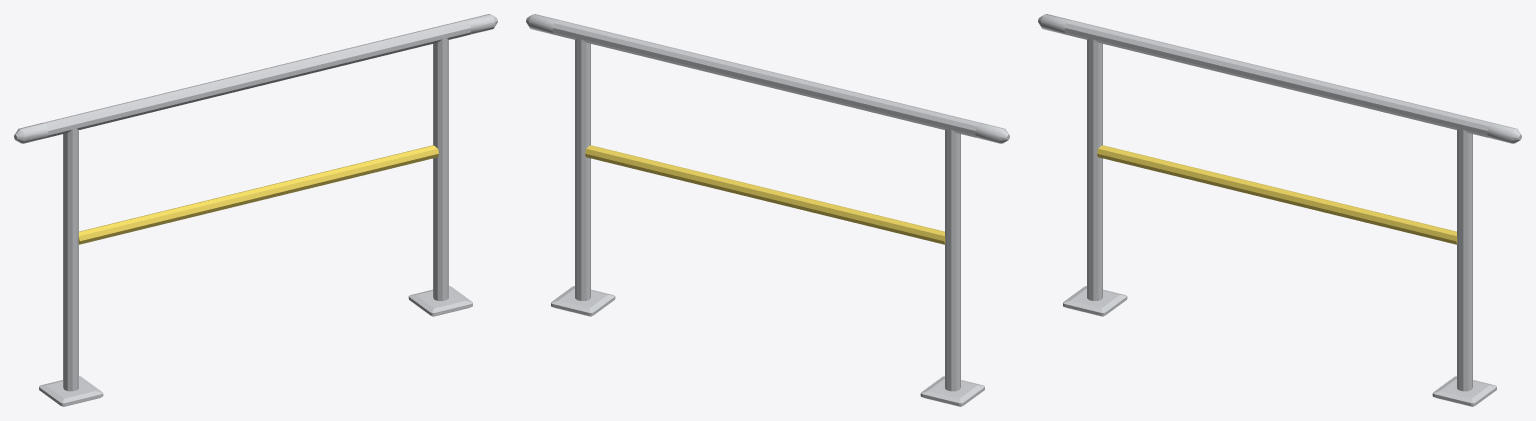
Rendered from public-swimming-baths-and-poolside-poolside-handrail-7d35b2f7__35250.glb.
3 views of the same model, side by side, from view 1: azimuth 30°, elevation 25°; view 2: azimuth 150°, elevation 25°; view 3: azimuth 330°, elevation 25° (orthographic).
Parts seen in each view (by area): view 1: poolside-handrail; view 2: poolside-handrail; view 3: poolside-handrail.
Part boxes in pixels (x1,y1,x2,y2): poolside-handrail: (14,14,497,406); poolside-handrail: (526,14,1009,406); poolside-handrail: (1038,14,1521,406).
Bounding box in the file's own units: 1.82 × 1.01 × 0.16.
